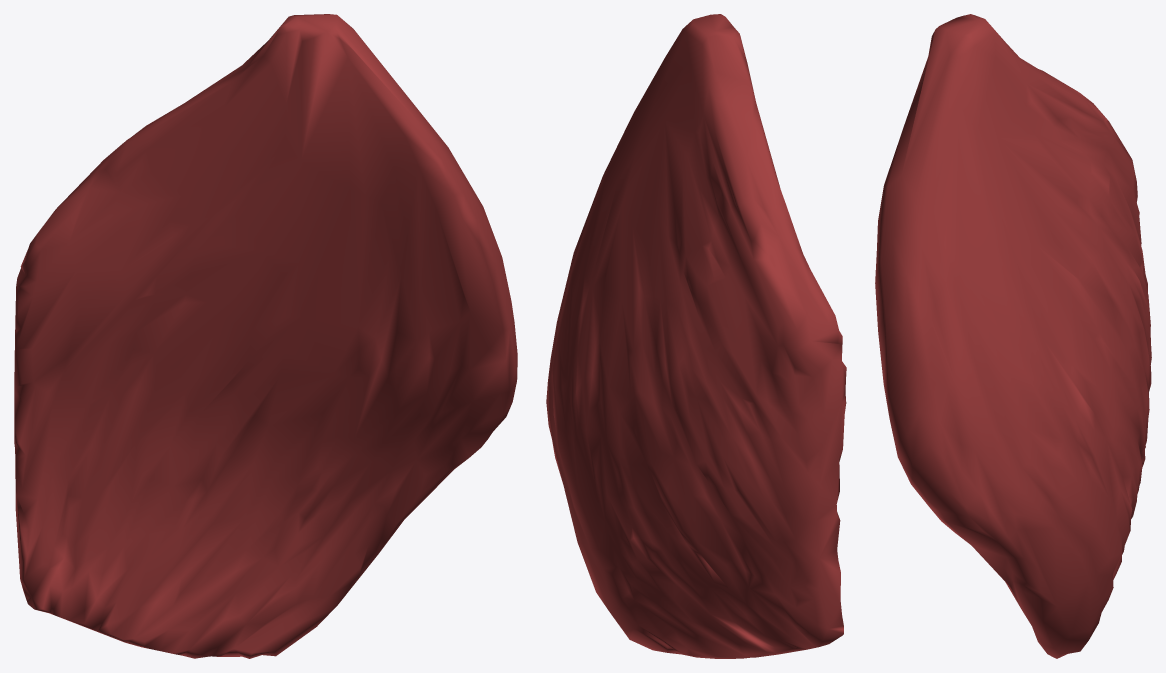
Rendered from posterior-crico-arytenoid-muscle-l.glb.
3 renders of one model, left to right at view 1: azimuth 30°, elevation 25°; view 2: azimuth 150°, elevation 25°; view 3: azimuth 270°, elevation 25°, orthographic. The views are drawn at different scales.
Visible parts, largest first — view 1: Posterior crico-arytenoid muscle.l; view 2: Posterior crico-arytenoid muscle.l; view 3: Posterior crico-arytenoid muscle.l.
Boxes of the visible parts, box(x1,y1,x2,y2) form: Posterior crico-arytenoid muscle.l: box(14, 14, 517, 658); Posterior crico-arytenoid muscle.l: box(546, 14, 846, 658); Posterior crico-arytenoid muscle.l: box(875, 14, 1151, 658).
Size of the model in its own units: 0.00909 by 0.0144 by 0.00573.
